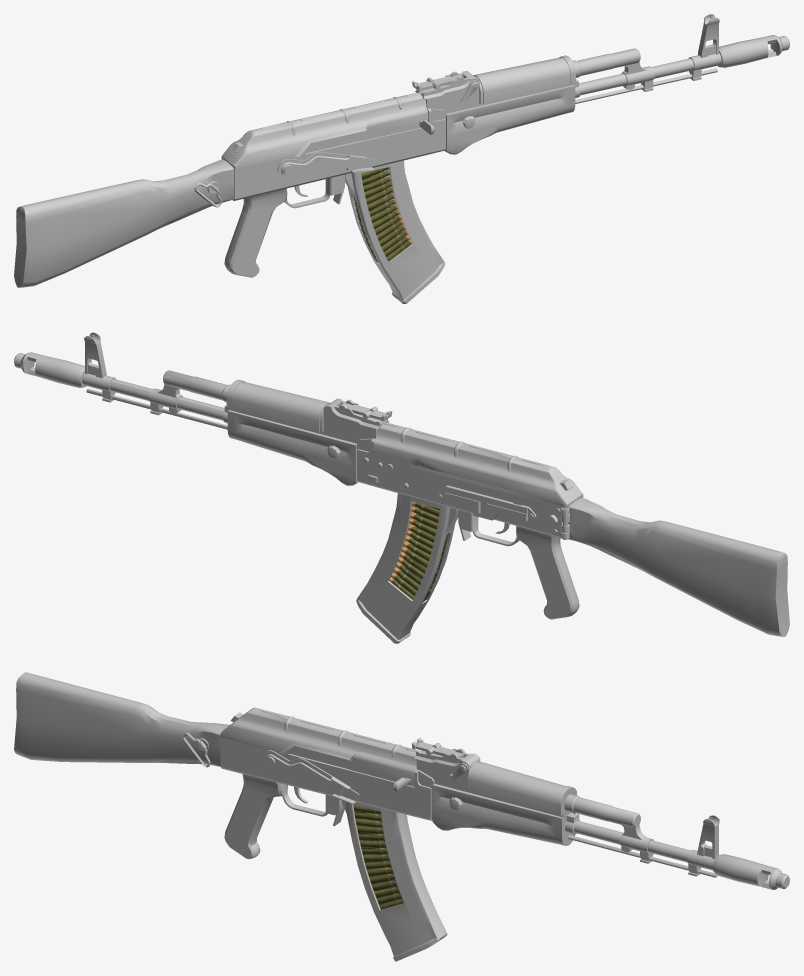
3 renders of one model, top to bottom at view 1: azimuth 30°, elevation 25°; view 2: azimuth 150°, elevation 25°; view 3: azimuth 330°, elevation 25°, orthographic. The views are drawn at different scales.
Visible parts, largest first — view 1: SMDImport03, SMDImport, SMDImport02, SMDImport01, SMDImport04, SMDImport05; view 2: SMDImport03, SMDImport, SMDImport02, SMDImport01; view 3: SMDImport03, SMDImport, SMDImport02, SMDImport01, SMDImport04, SMDImport05.
Part boxes in pixels (bbox=[...]): SMDImport03: bbox=[14, 16, 712, 287]; SMDImport: bbox=[573, 14, 789, 103]; SMDImport02: bbox=[345, 160, 445, 303]; SMDImport01: bbox=[354, 167, 412, 262]; SMDImport04: bbox=[277, 152, 374, 177]; SMDImport05: bbox=[362, 106, 435, 140]; SMDImport03: bbox=[91, 334, 789, 636]; SMDImport: bbox=[14, 332, 230, 429]; SMDImport02: bbox=[356, 493, 458, 643]; SMDImport01: bbox=[389, 502, 448, 602]; SMDImport03: bbox=[14, 672, 712, 859]; SMDImport: bbox=[564, 794, 789, 889]; SMDImport02: bbox=[342, 800, 447, 961]; SMDImport01: bbox=[353, 804, 403, 909]; SMDImport04: bbox=[262, 750, 359, 804]; SMDImport05: bbox=[350, 752, 416, 792].
Bounding box in the file's own units: 36.45 × 9.89 × 2.67.
